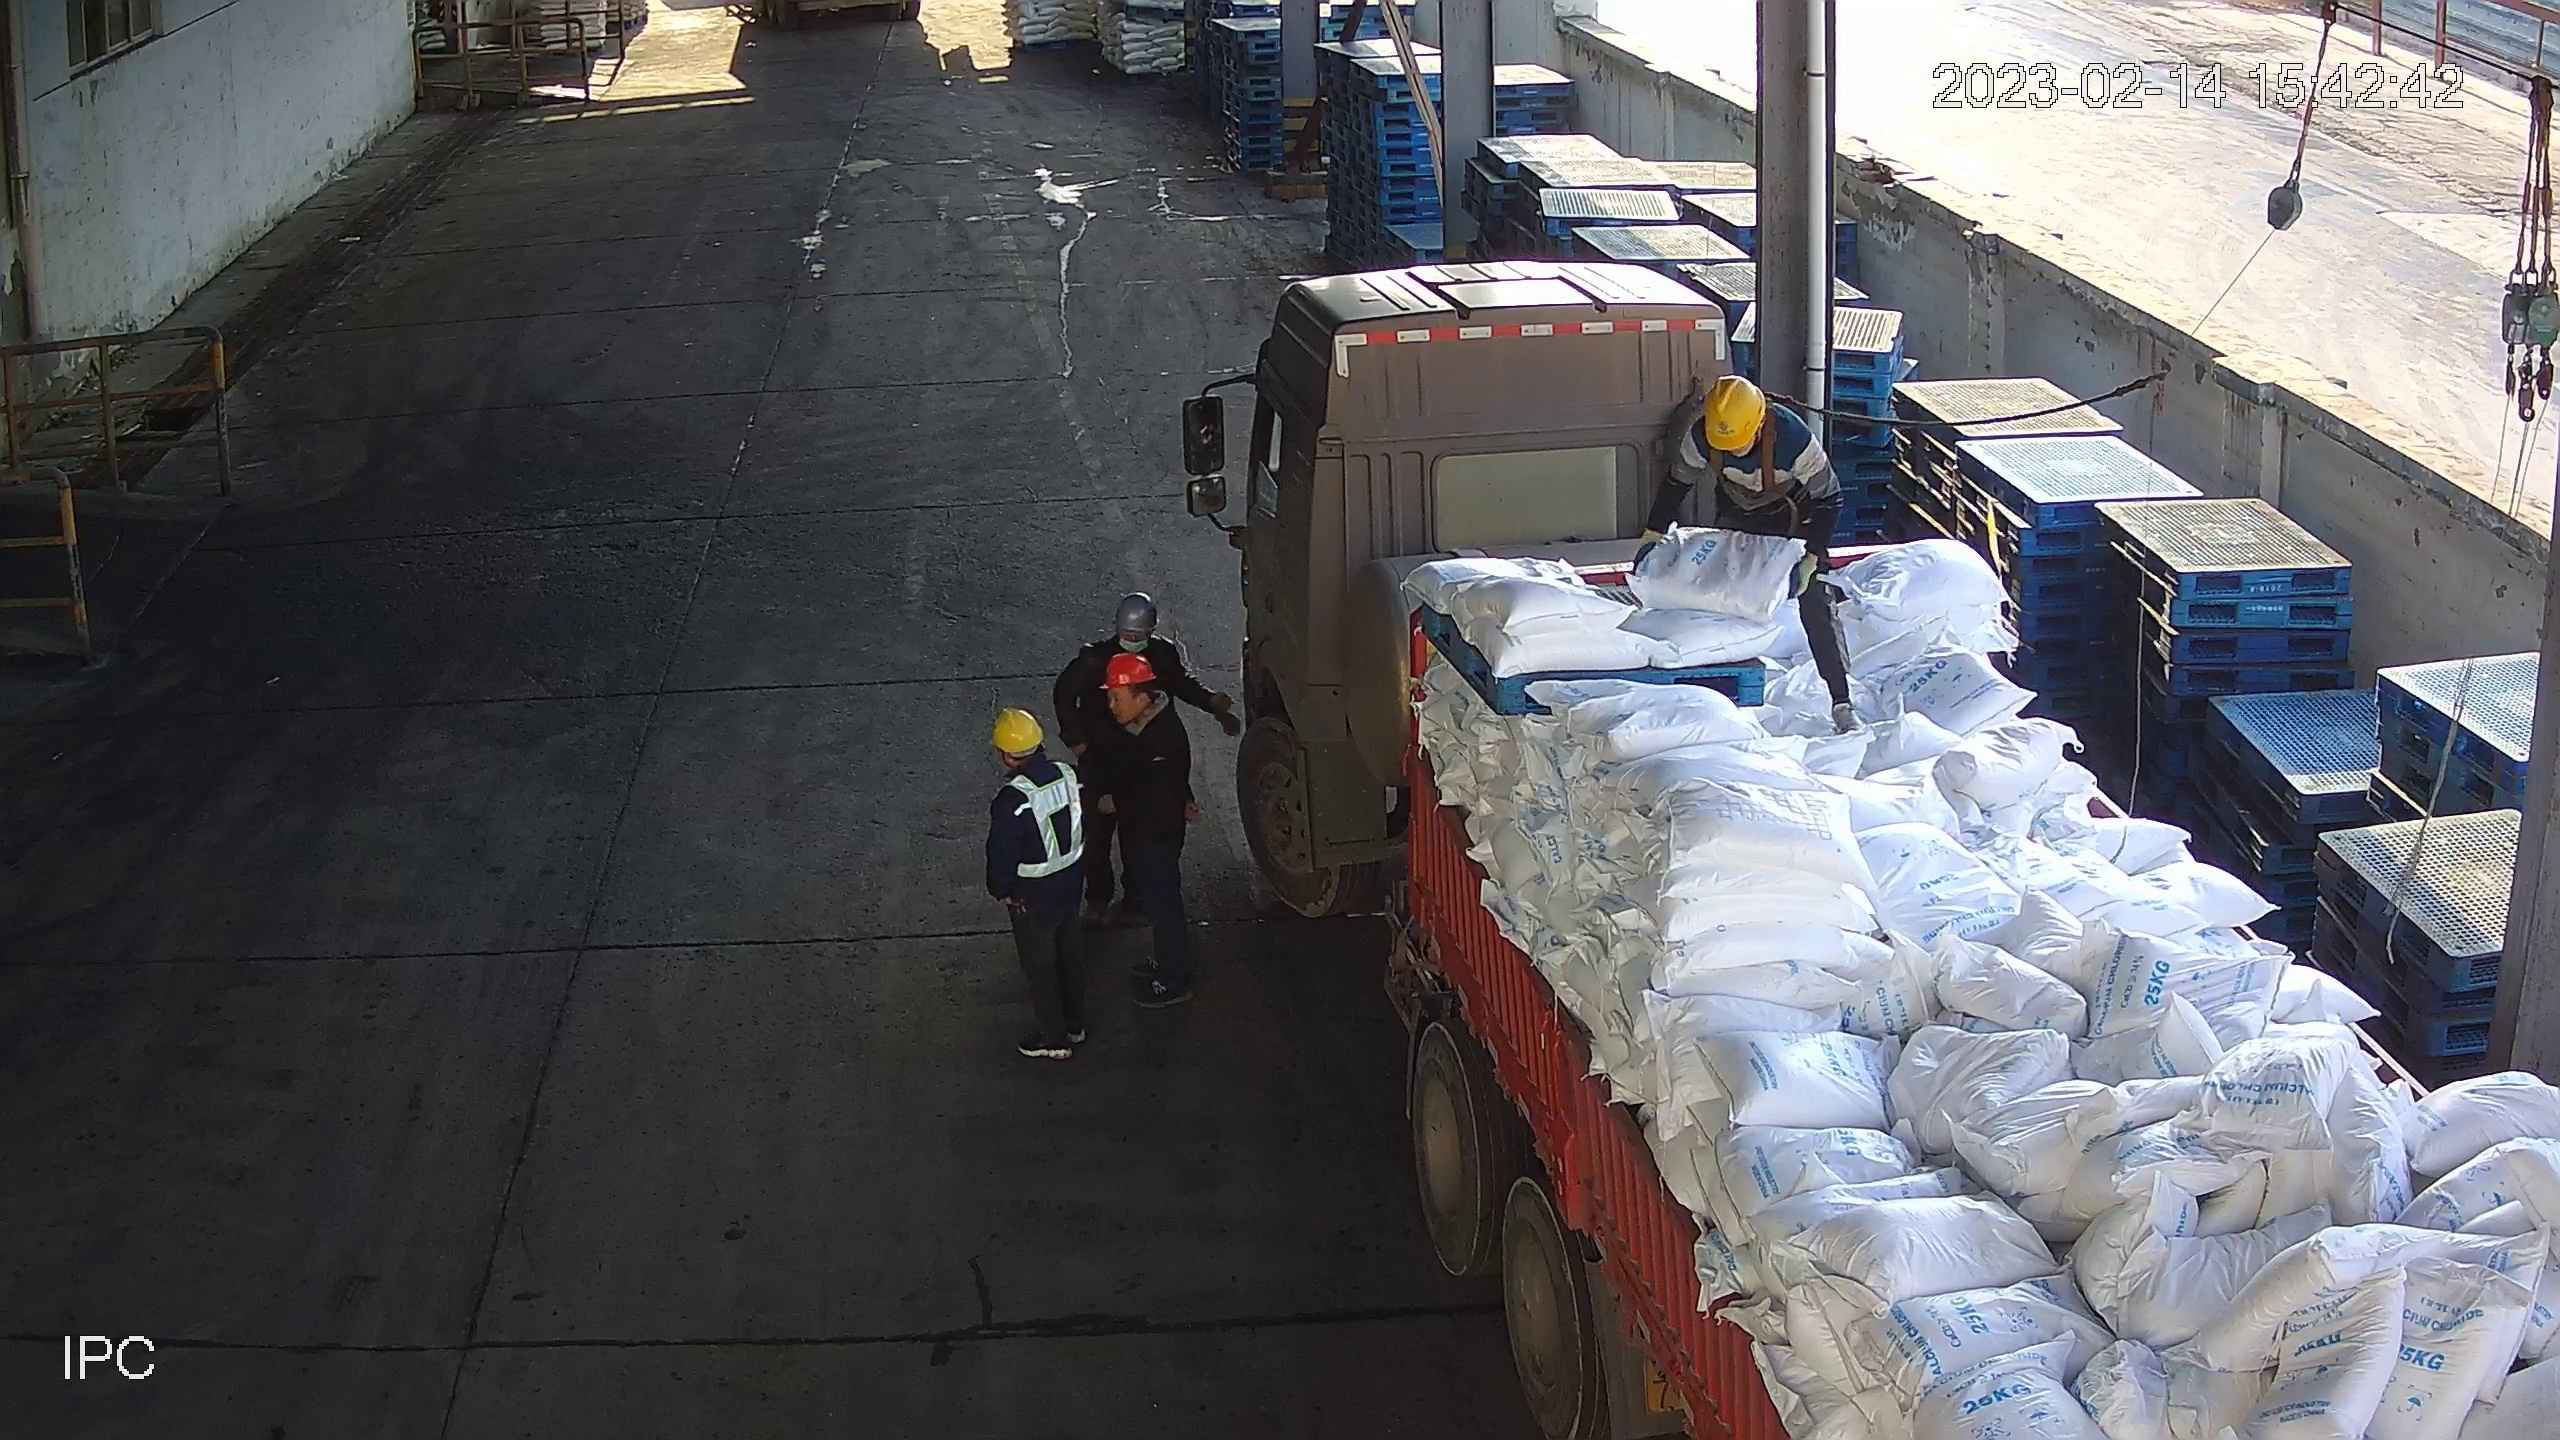belt: (1720, 444, 1806, 524)
head: (1688, 371, 1811, 476), (983, 709, 1083, 818), (1104, 657, 1193, 762)
helmet: (1706, 371, 1763, 448), (983, 706, 1046, 758), (1113, 586, 1158, 632), (1104, 651, 1158, 688)
people: (1639, 365, 1881, 753), (1072, 601, 1241, 929), (972, 709, 1102, 1065), (1100, 653, 1211, 1025)
truck: (1188, 248, 2560, 1440)
